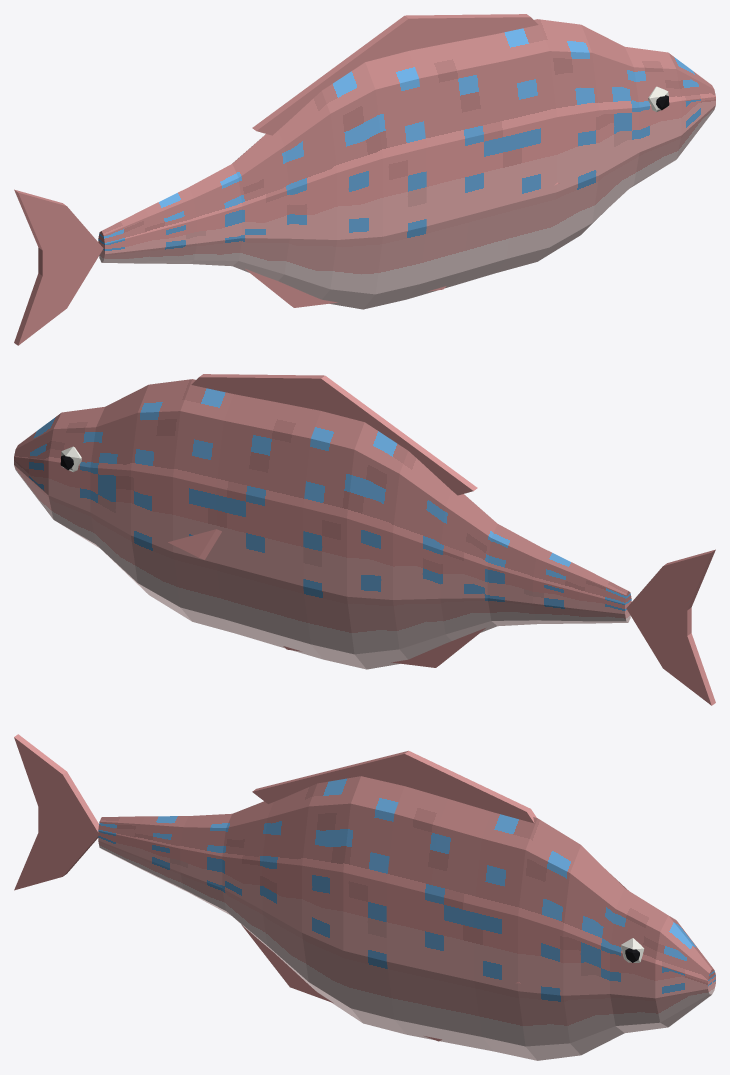
File: pink_snapper.glb
3 renders of one model, top to bottom at view 1: azimuth 30°, elevation 25°; view 2: azimuth 150°, elevation 25°; view 3: azimuth 330°, elevation 25°, orthographic.
Visible parts, largest first — view 1: fish_pink_snapper; view 2: fish_pink_snapper; view 3: fish_pink_snapper.
Part boxes in pixels (left/top/right/bottom): fish_pink_snapper: left=14, top=14, right=715, bottom=345; fish_pink_snapper: left=14, top=374, right=715, bottom=705; fish_pink_snapper: left=14, top=734, right=715, bottom=1060.
Size of the model in its own units: 1.14 by 0.4423 by 0.1417.
Materials: 4 (1 with a texture image).
